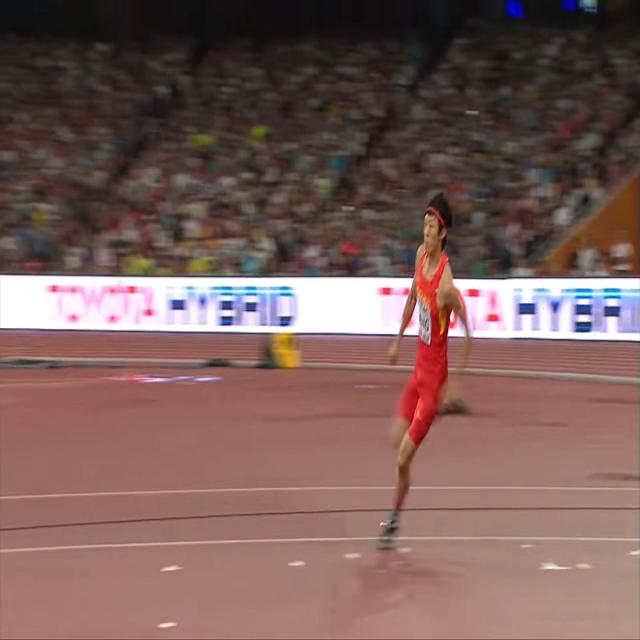run: (372, 195, 474, 548)
